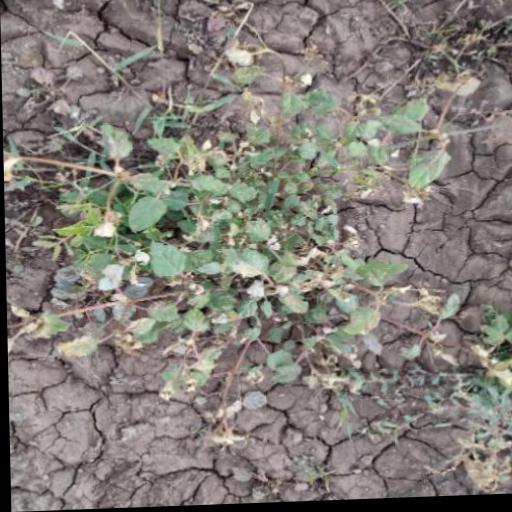weed: (21, 74, 413, 427)
